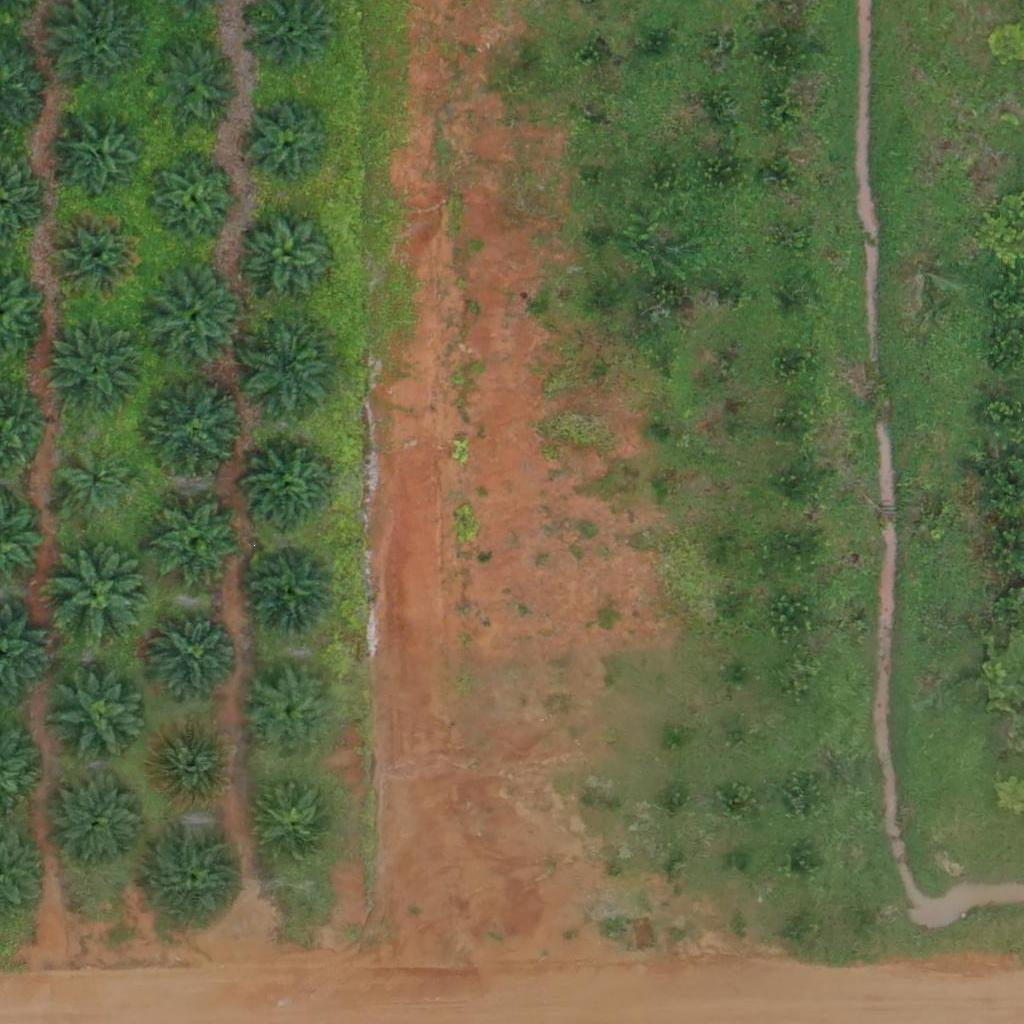Kelapa_Sawit: (52, 546, 152, 647), (50, 667, 150, 768), (48, 771, 148, 872), (147, 825, 247, 926), (237, 316, 337, 416), (142, 268, 242, 368), (144, 382, 244, 482), (47, 320, 147, 420), (246, 101, 334, 189), (247, 211, 335, 299), (154, 498, 242, 586), (148, 608, 236, 696), (148, 719, 236, 807), (253, 782, 341, 870), (152, 43, 239, 131), (57, 115, 144, 203), (247, 448, 334, 536), (248, 545, 335, 633), (247, 671, 334, 759), (149, 154, 236, 242), (53, 212, 140, 300), (59, 448, 134, 524)
